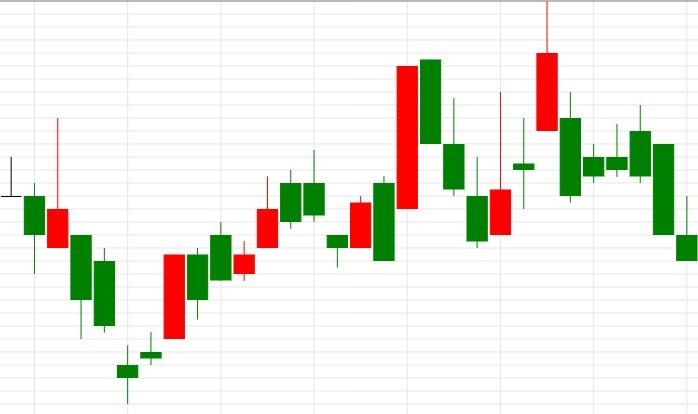inverse_hammer_rise: (560, 91, 697, 261), (420, 59, 512, 249)
three_black_crows_fall: (326, 59, 488, 267)
